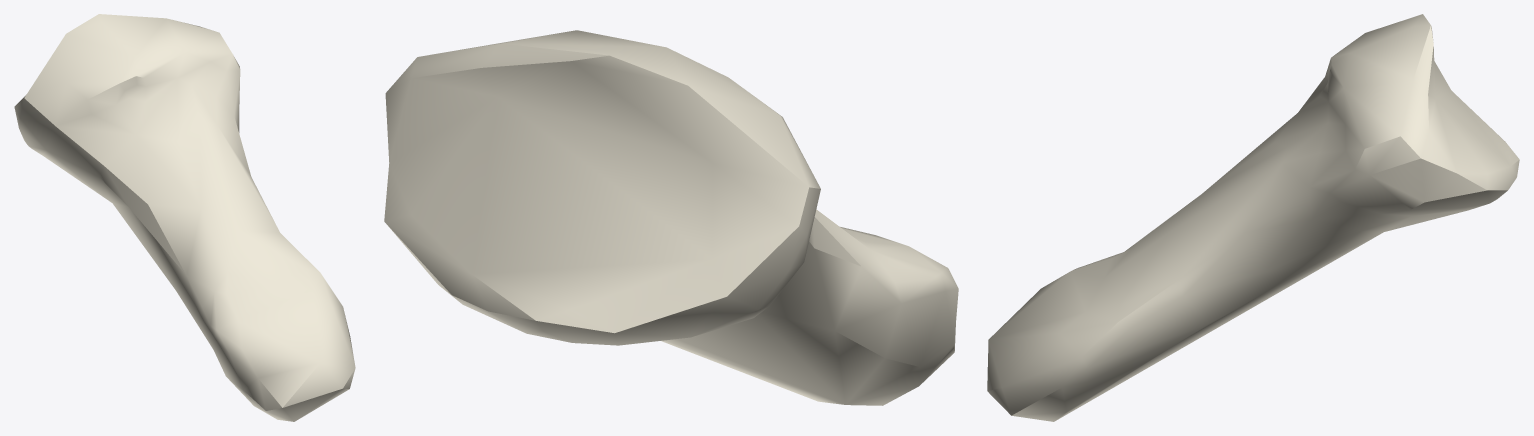
Rendered from fma23955_fj3186.glb.
The picture shows the model from 3 angles, left to right: view 1: azimuth 30°, elevation 25°; view 2: azimuth 150°, elevation 25°; view 3: azimuth 270°, elevation 25°; orthographic projection. The views are drawn at different scales.
Parts seen in each view (by area): view 1: FMA23955_FJ3186; view 2: FMA23955_FJ3186; view 3: FMA23955_FJ3186.
Part boxes in pixels (x1=…): FMA23955_FJ3186: x1=14, y1=14, x2=355, y2=421; FMA23955_FJ3186: x1=384, y1=30, x2=958, y2=405; FMA23955_FJ3186: x1=987, y1=14, x2=1519, y2=421.
Size of the model in its own units: 0.00949 by 0.013 by 0.017.
